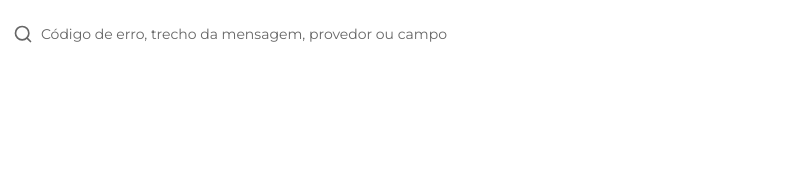
Test: BuscaHeroComPreview › erro de busca não é lido como "nenhum resultado" — sem contagem nenhuma
The image size is (791, 172).
Type "e01" into the search field. click: (398, 34)
box: 41,13 -> 755,55
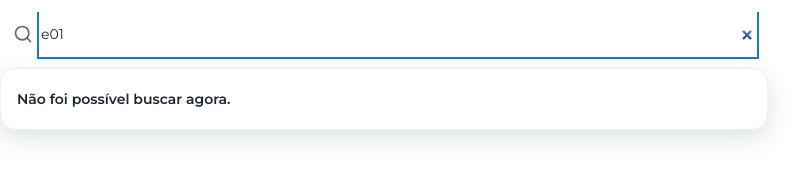
Now the text "Não foi possível buscar agora." is shown, box 17,90 -> 230,108
